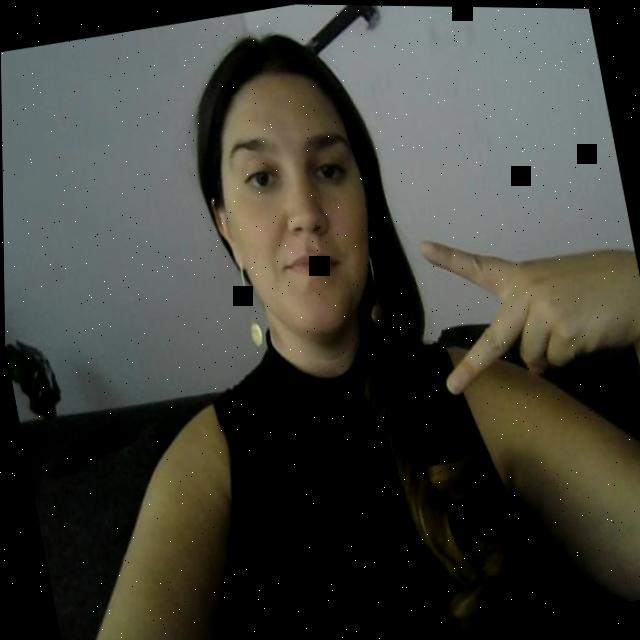Scissors: (403, 192, 640, 425)
